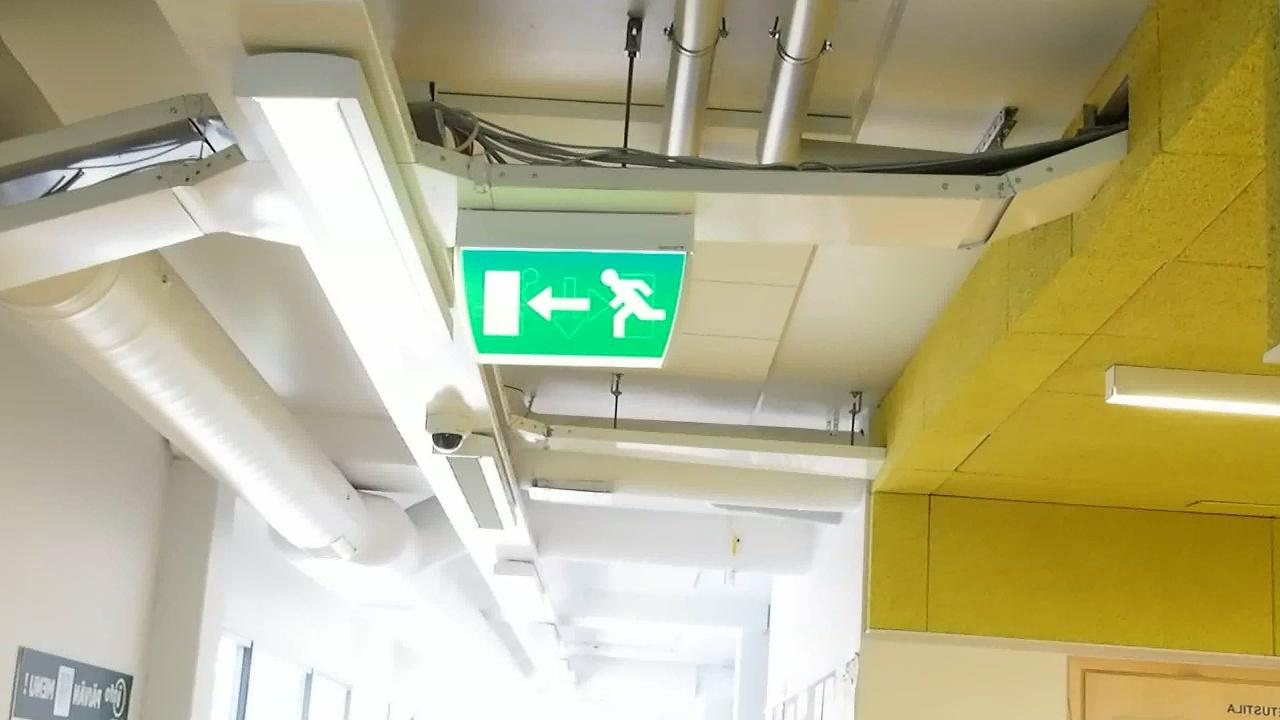exit: (457, 245, 689, 365)
